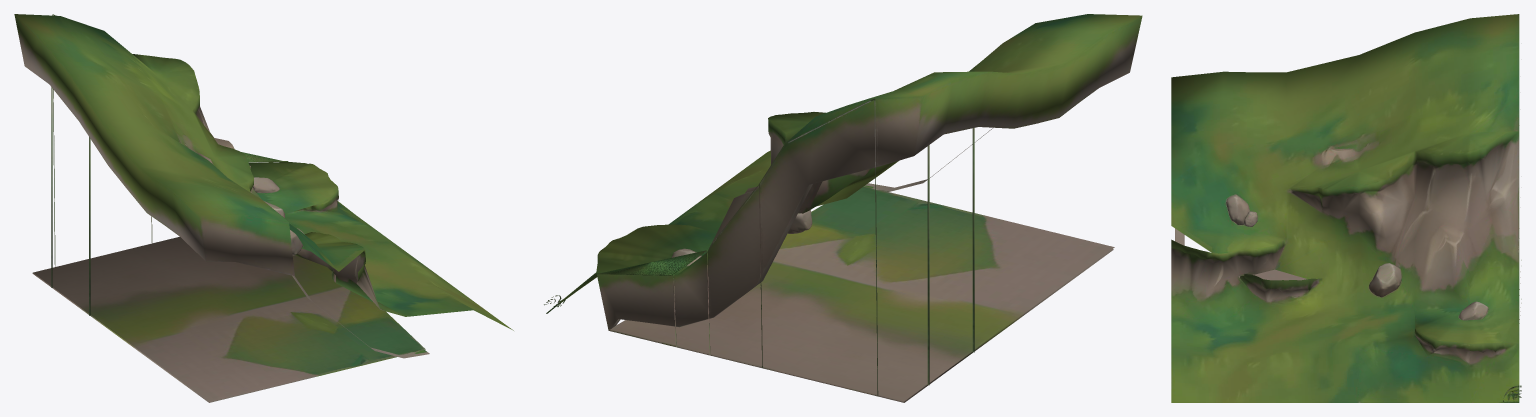
Rendered from terrain_slope.glb.
3 views of the same model, side by side, from view 1: azimuth 30°, elevation 25°; view 2: azimuth 150°, elevation 25°; view 3: azimuth 270°, elevation 25° (orthographic). The views are drawn at different scales.
Parts seen in each view (by area): view 1: tripo_node_6fea547a-fcc7-4ee0-8d69-101a48bbe1bb; view 2: tripo_node_6fea547a-fcc7-4ee0-8d69-101a48bbe1bb; view 3: tripo_node_6fea547a-fcc7-4ee0-8d69-101a48bbe1bb.
Part boxes in pixels (box(x1,y1,x2,y2)): tripo_node_6fea547a-fcc7-4ee0-8d69-101a48bbe1bb: box(14, 14, 513, 402); tripo_node_6fea547a-fcc7-4ee0-8d69-101a48bbe1bb: box(544, 14, 1142, 402); tripo_node_6fea547a-fcc7-4ee0-8d69-101a48bbe1bb: box(1171, 14, 1521, 402).
Size of the model in its own units: 0.9863 by 0.7793 by 0.998.
Materials: 1 (1 with a texture image).
